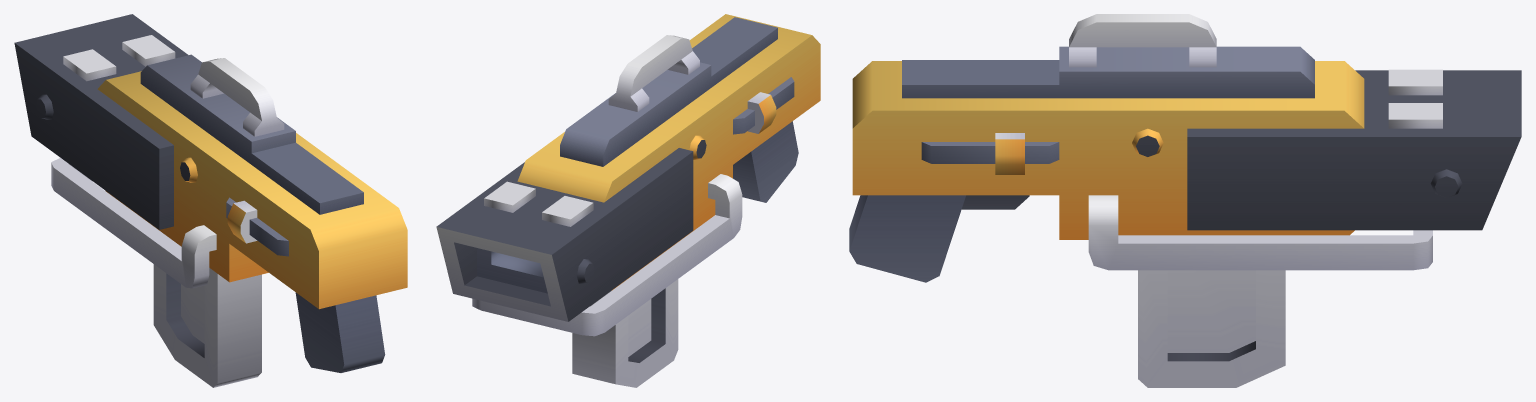
Rendered from blaster-r.glb.
3 views of the same model, side by side, from view 1: azimuth 30°, elevation 25°; view 2: azimuth 150°, elevation 25°; view 3: azimuth 270°, elevation 25° (orthographic). The views are drawn at different scales.
Parts seen in each view (by area): view 1: blaster-r, magazine; view 2: blaster-r, magazine; view 3: blaster-r, magazine.
Boxes of the visible parts, bbox=[...] form: blaster-r: bbox=[14, 14, 407, 372]; magazine: bbox=[153, 264, 261, 387]; blaster-r: bbox=[436, 14, 820, 336]; magazine: bbox=[572, 279, 678, 387]; blaster-r: bbox=[849, 14, 1521, 282]; magazine: bbox=[1138, 270, 1285, 387].
Size of the model in its own units: 0.18 by 0.4009 by 0.6834.
Materials: 1 (1 with a texture image).
